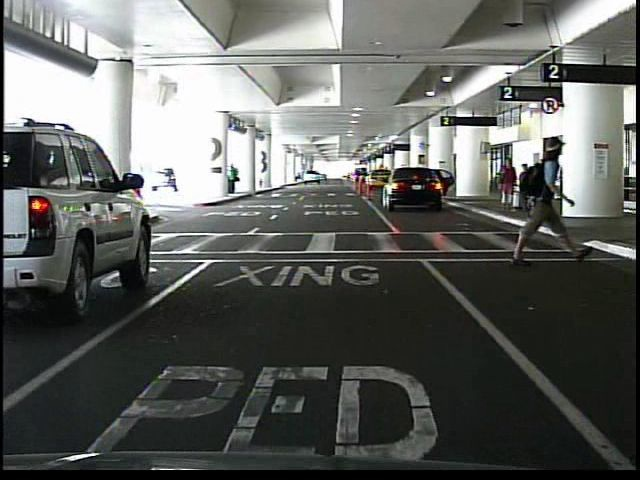person: (506, 136, 589, 267), (493, 157, 515, 209), (515, 162, 533, 211), (531, 164, 542, 199), (227, 164, 238, 196)
